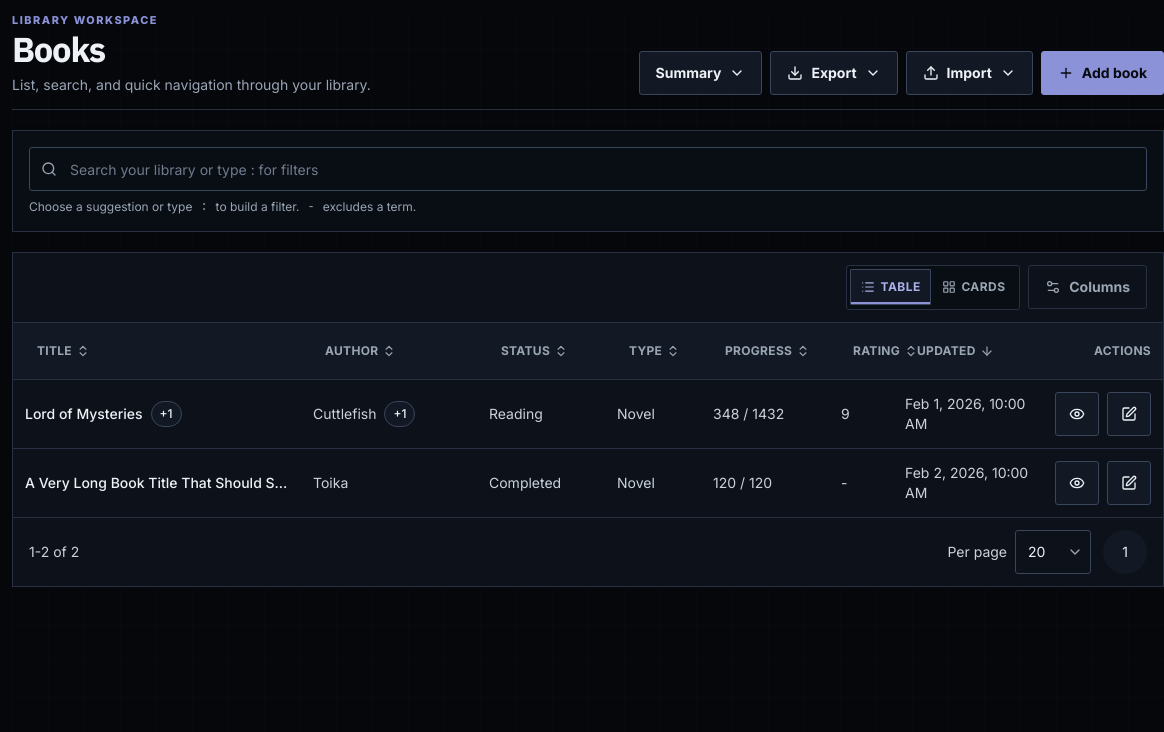
Test: BooksPage › keeps title and description values manual
This screenshot has width=1164, height=732.
Check: the text "Lord of Mysteries" is shown, box [25,404,142,424]
Click the dropdown named "search books": (588, 169) [29,147,1147,191]
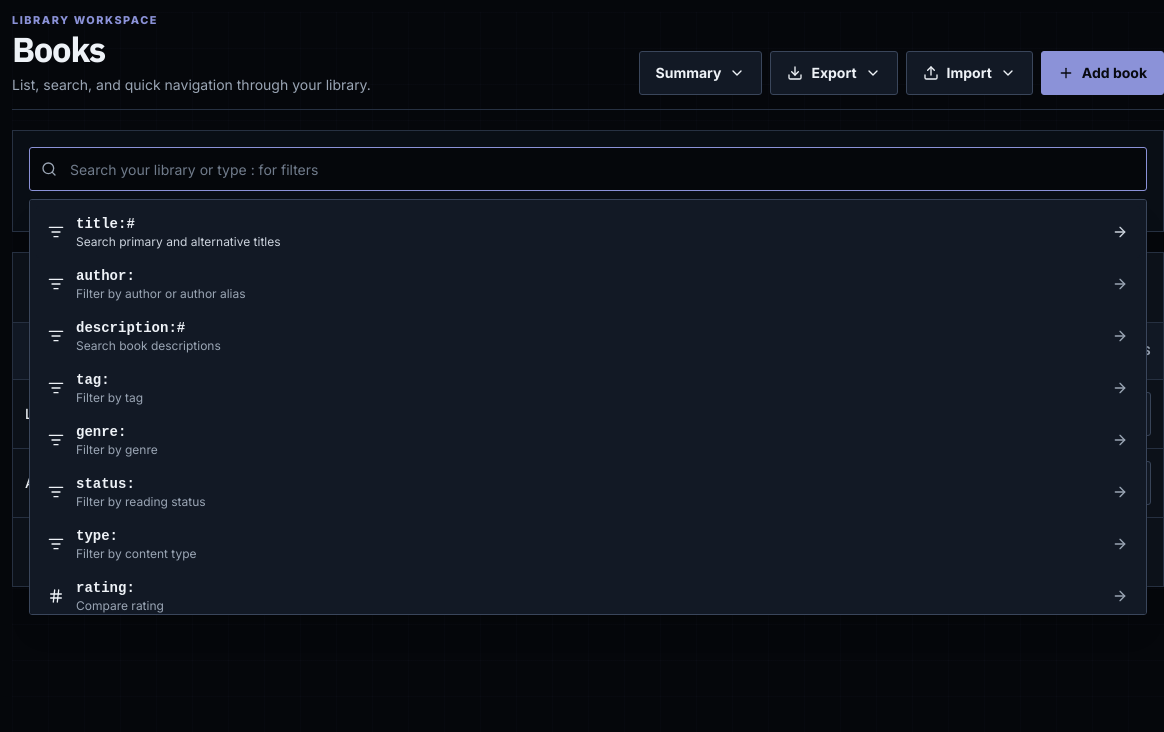
Click the option "title:# Search primary and alternative titles": (105, 224) [36,206,1140,258]
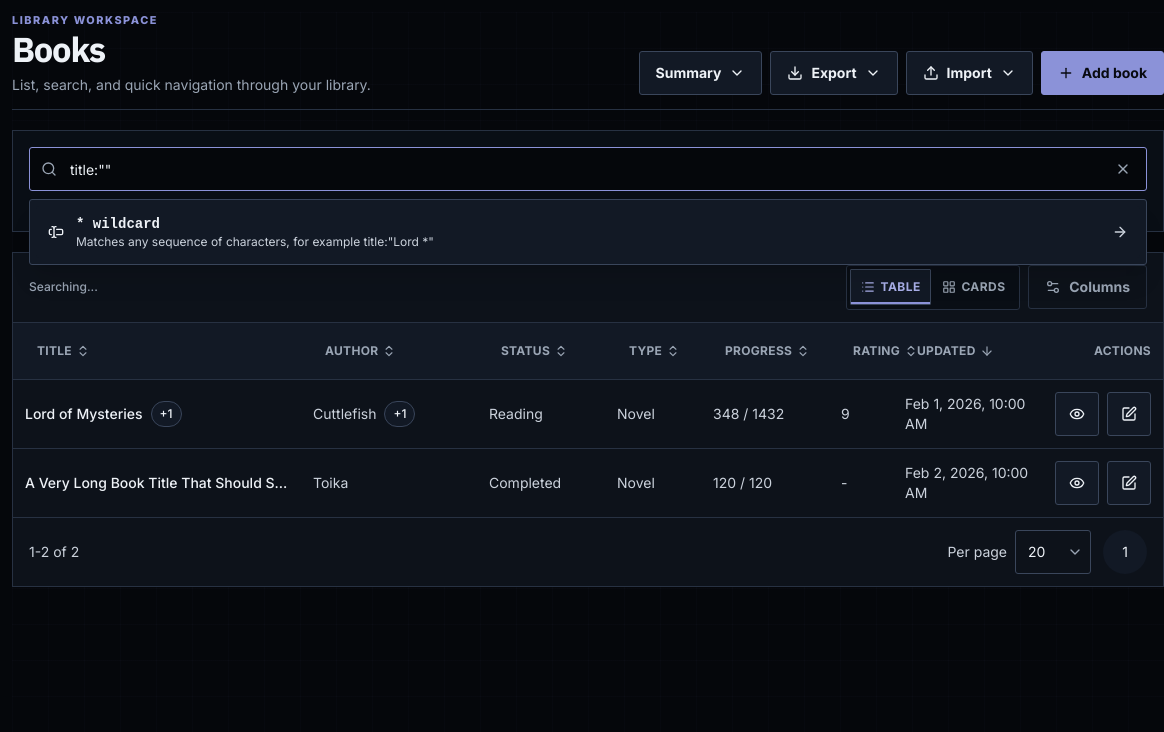
Check: the dropdown named "search books" holds "title:\"\"", box [29,147,1147,191]
Check: the option "* wildcard" shows "Matches any sequence of characters", box [36,206,1140,258]
Type keys "Lord"
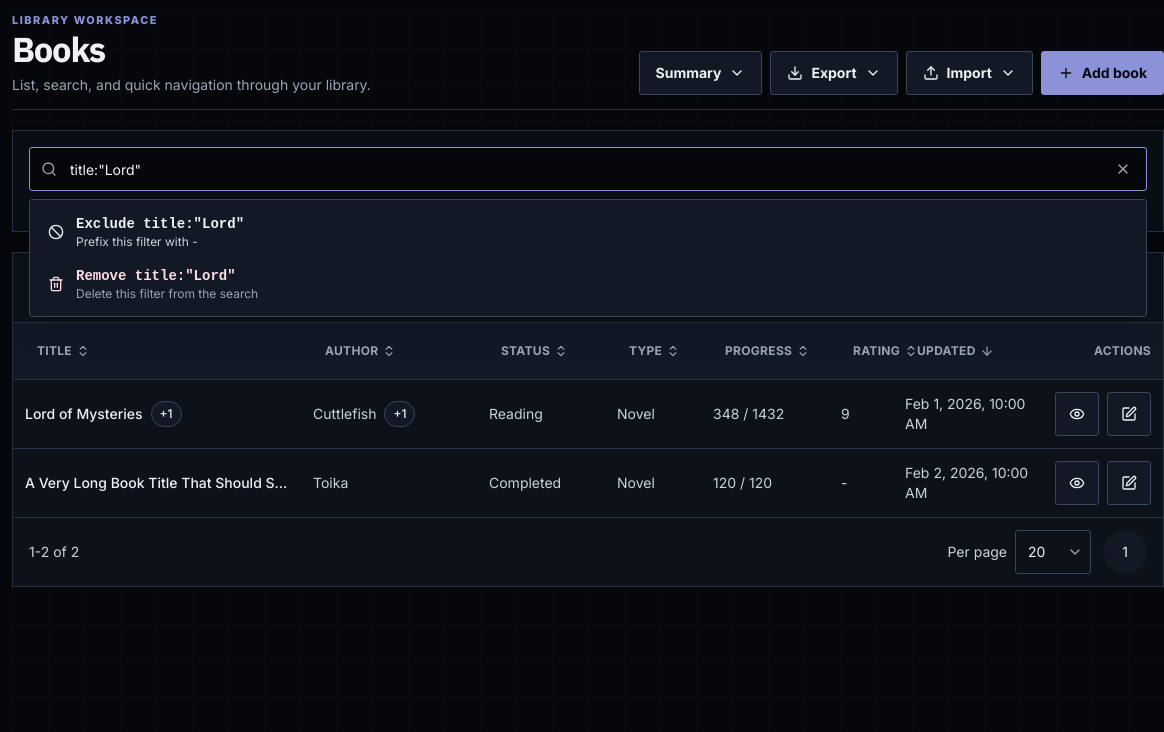
Check: the dropdown named "search books" holds "title:\"Lord\"", box [29,147,1147,191]
